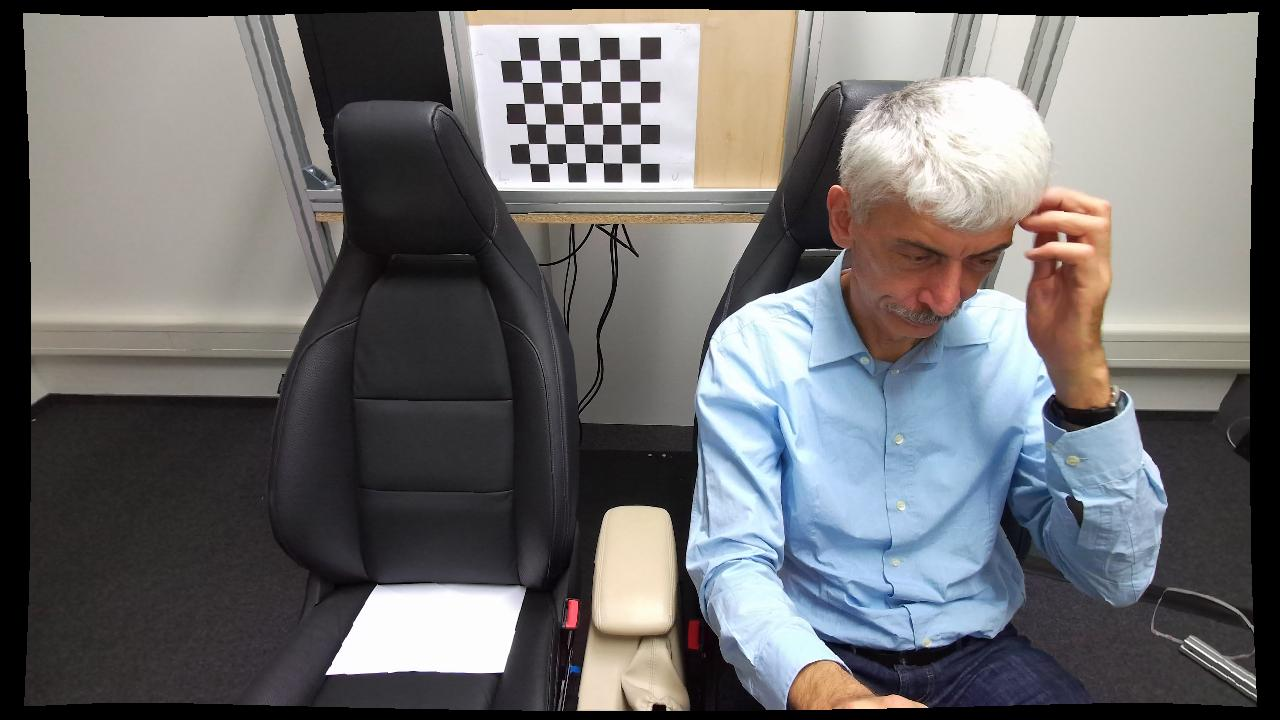Distracted: (688, 74, 1156, 712)
